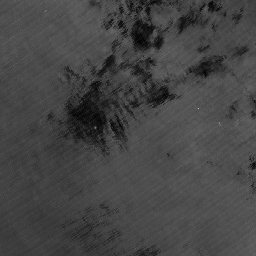Target: (92, 125, 97, 131)
